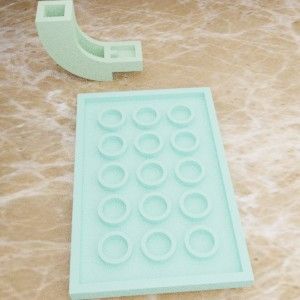lego: (69, 86, 254, 299), (35, 0, 142, 81)
